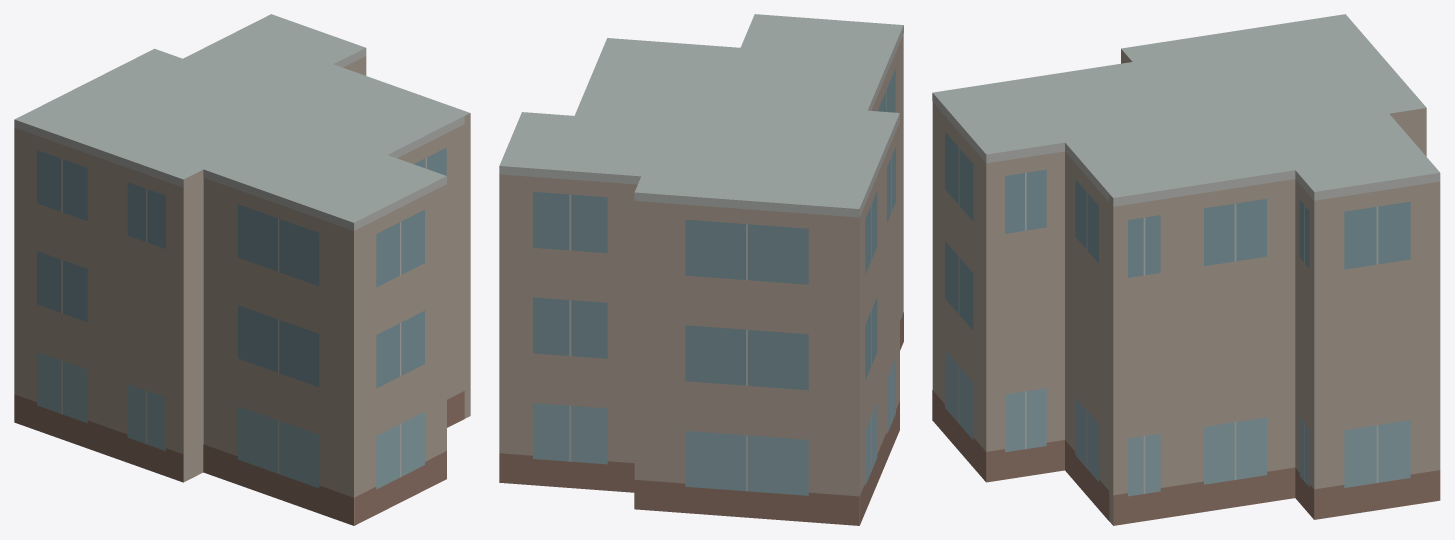
File: survey-upis-32625150.glb
3 renders of one model, left to right at view 1: azimuth 30°, elevation 25°; view 2: azimuth 150°, elevation 25°; view 3: azimuth 270°, elevation 25°, orthographic. The views are drawn at different scales.
Parts seen in each view (by area): view 1: survey-upis-32625150.tmp; view 2: survey-upis-32625150.tmp; view 3: survey-upis-32625150.tmp.
Boxes of the visible parts, x1,y1,x2,y2 form: survey-upis-32625150.tmp: (14,14,470,525); survey-upis-32625150.tmp: (499,14,903,525); survey-upis-32625150.tmp: (932,14,1440,525).
Size of the model in its own units: 11.03 by 9.15 by 12.86.
